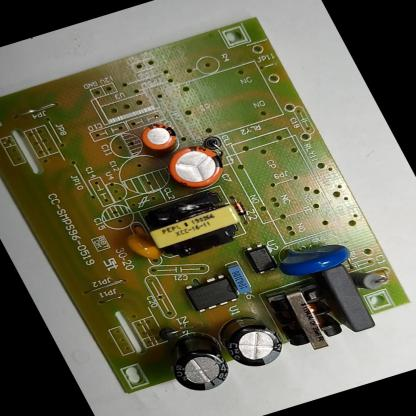Cap1: (160, 140, 231, 195)
Cap2: (137, 119, 182, 154)
Cap3: (213, 310, 289, 374)
Cap4: (154, 325, 240, 398)
MOSFET: (180, 271, 242, 314)
Mov: (270, 234, 356, 283)
Resistor: (348, 264, 390, 295)
Transformer: (137, 187, 250, 264), (262, 278, 351, 358)
